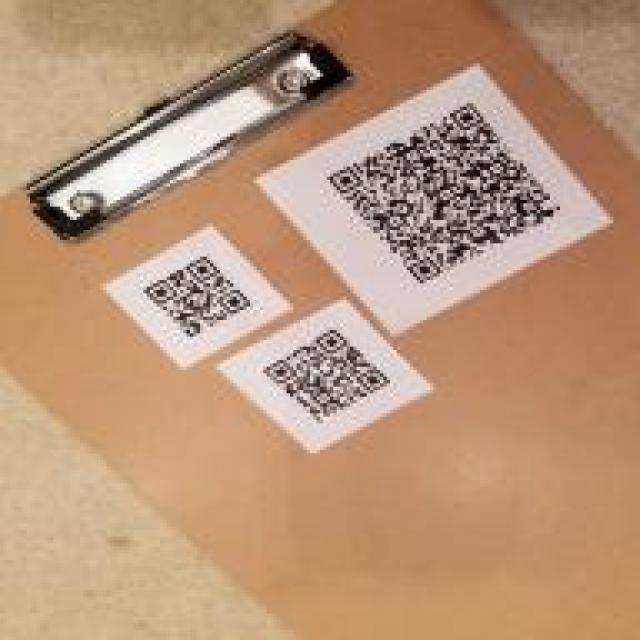qr_code: (328, 103, 560, 284), (263, 329, 390, 424), (143, 256, 251, 338)
